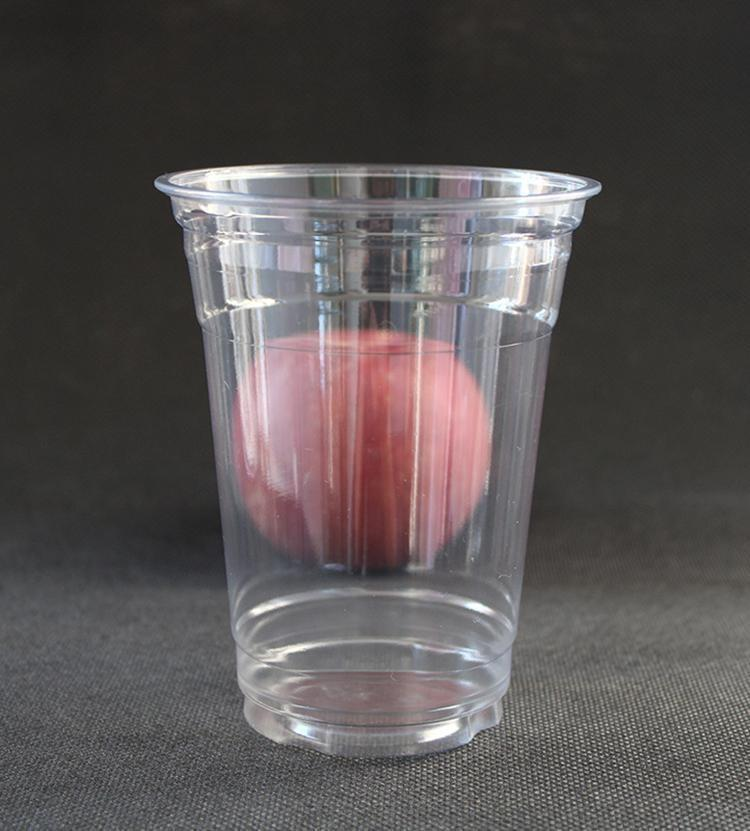cup-disposable: (152, 149, 606, 753)
